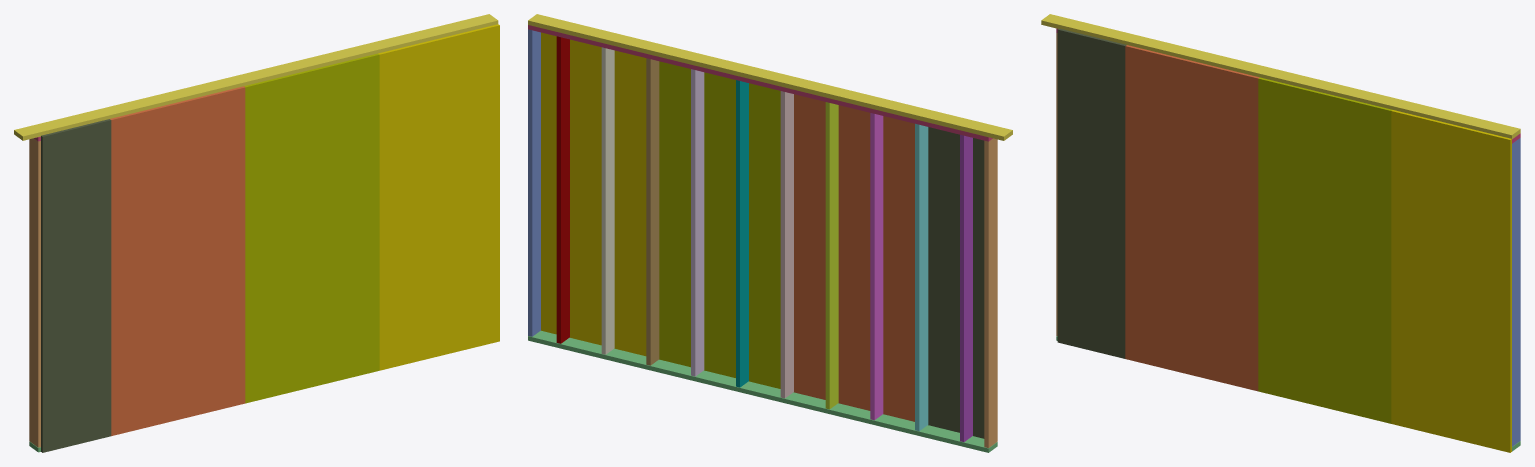
The picture shows the model from 3 angles, left to right: view 1: azimuth 30°, elevation 25°; view 2: azimuth 150°, elevation 25°; view 3: azimuth 330°, elevation 25°; orthographic projection.
Visible parts, largest first — view 1: world; view 2: world; view 3: world.
Part boxes in pixels (<box>): world: <box>14,14,499,452</box>; world: <box>528,14,1012,452</box>; world: <box>1041,14,1520,452</box>.
Bounding box in the file's own units: 170 × 109 × 6.5.
